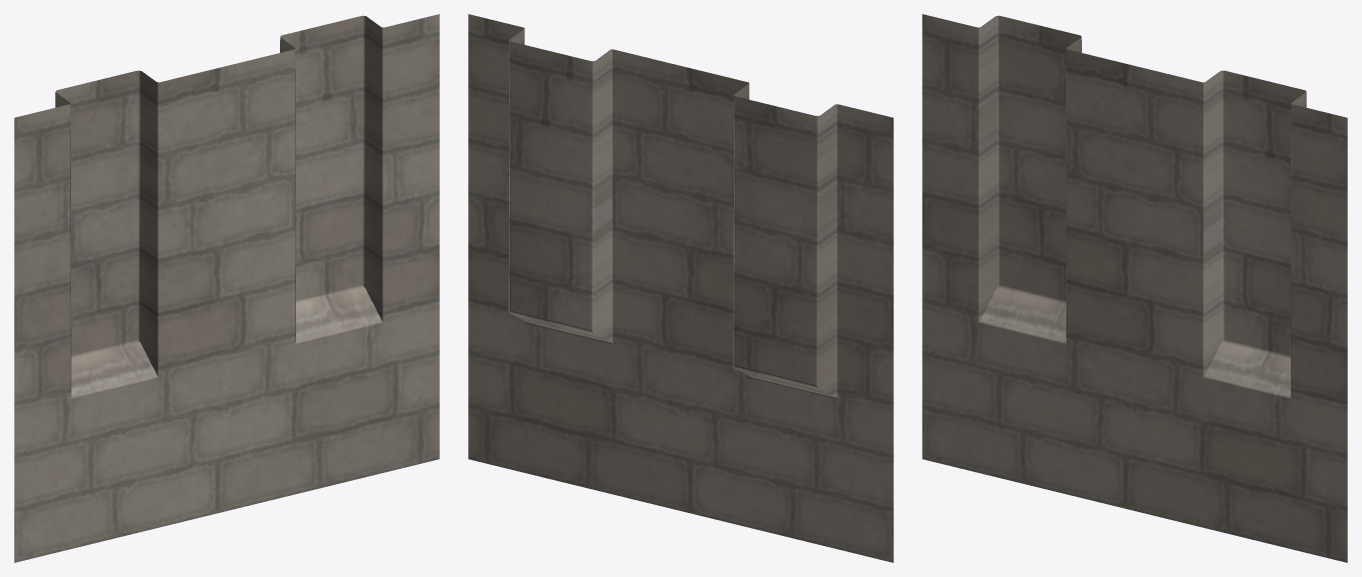
Rendered from Wall_IndentLower.fbx.
3 renders of one model, left to right at view 1: azimuth 30°, elevation 25°; view 2: azimuth 150°, elevation 25°; view 3: azimuth 330°, elevation 25°, orthographic.
Visible parts, largest first — view 1: Wall_IndentLower; view 2: Wall_IndentLower; view 3: Wall_IndentLower.
Boxes of the visible parts, bbox=[...] form: Wall_IndentLower: bbox=[14, 14, 439, 562]; Wall_IndentLower: bbox=[468, 14, 893, 562]; Wall_IndentLower: bbox=[922, 14, 1347, 562].
Bounding box in the file's own units: 500 × 500 × 35.77.
1 material, 1 textured.
